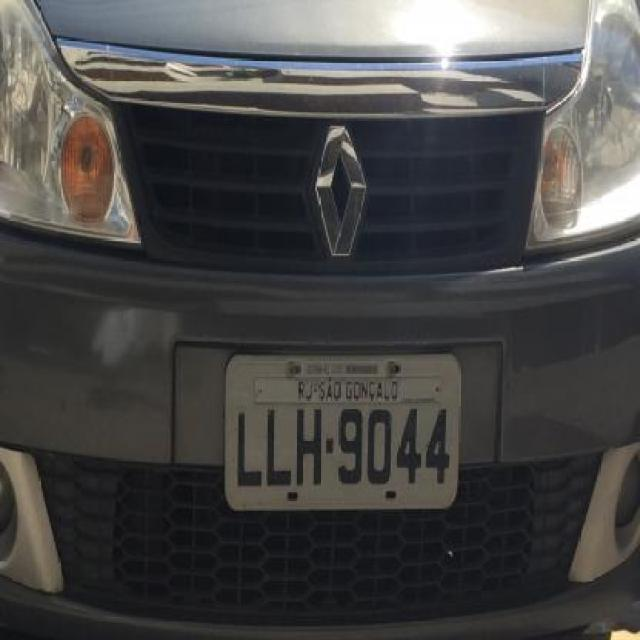old_plate: (211, 344, 473, 516)
